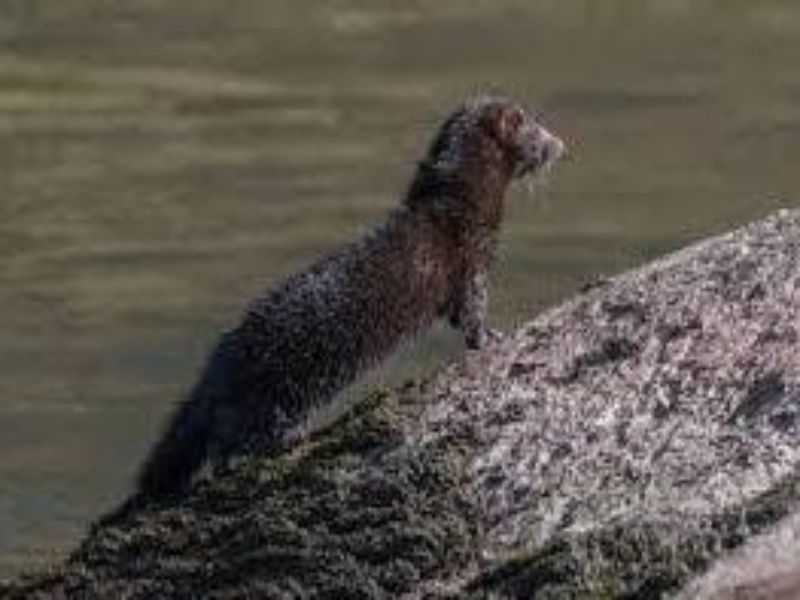minkish: (135, 91, 569, 494)
